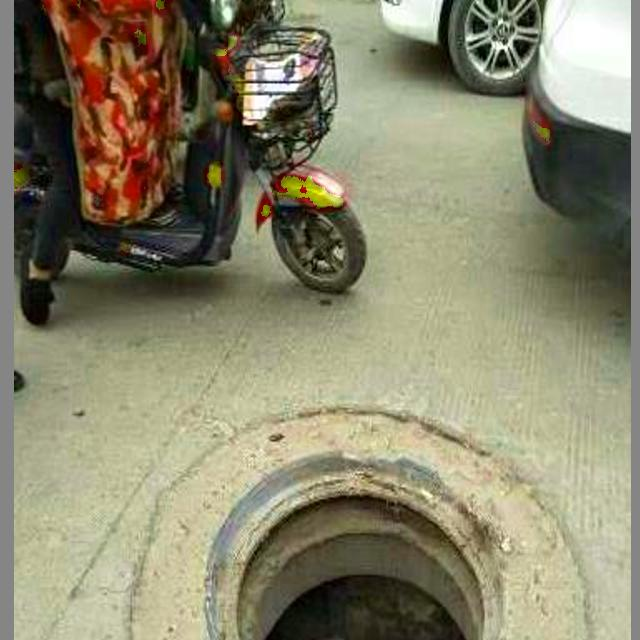lose: (205, 445, 507, 640)
